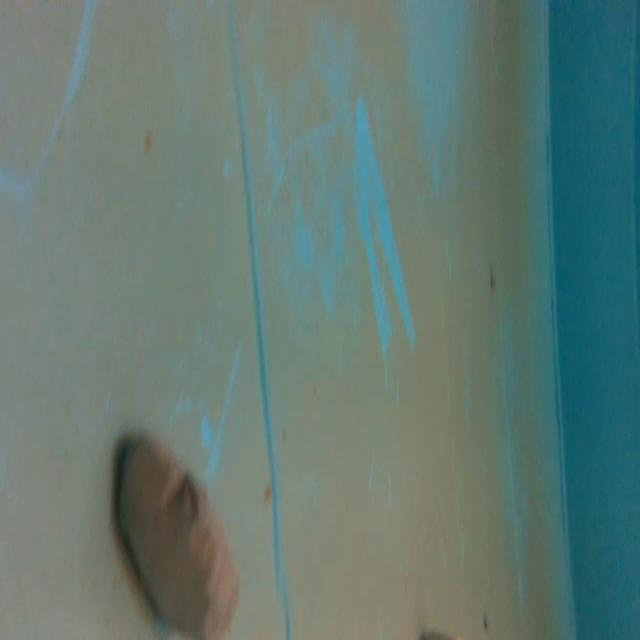rock: (114, 420, 251, 640)
